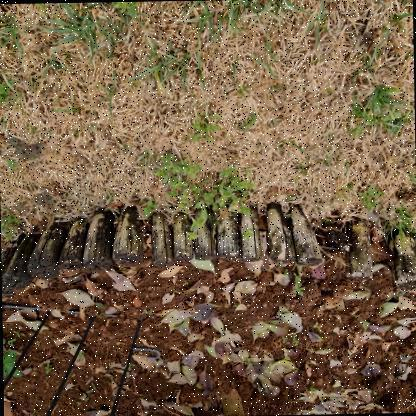Weeds: (151, 153, 258, 246), (350, 102, 402, 133), (189, 113, 220, 141), (360, 183, 386, 215), (3, 348, 23, 379), (0, 207, 19, 239), (0, 75, 13, 111), (110, 2, 140, 17), (291, 272, 304, 300), (239, 112, 256, 132), (141, 196, 156, 217)
